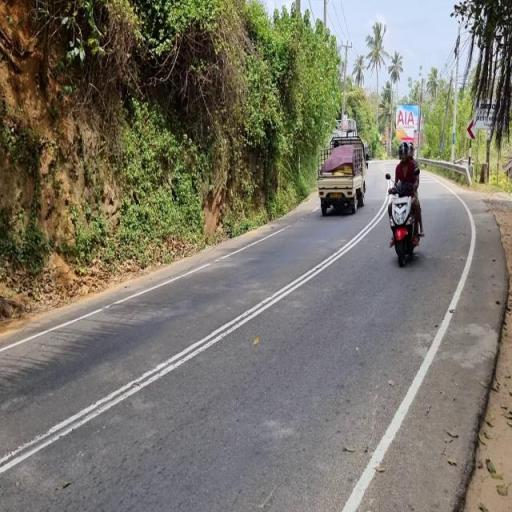double_white_line: (0, 186, 384, 486)
